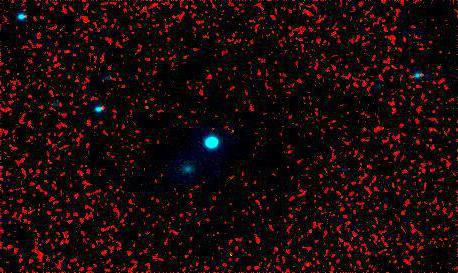star: (334, 155, 364, 185)
